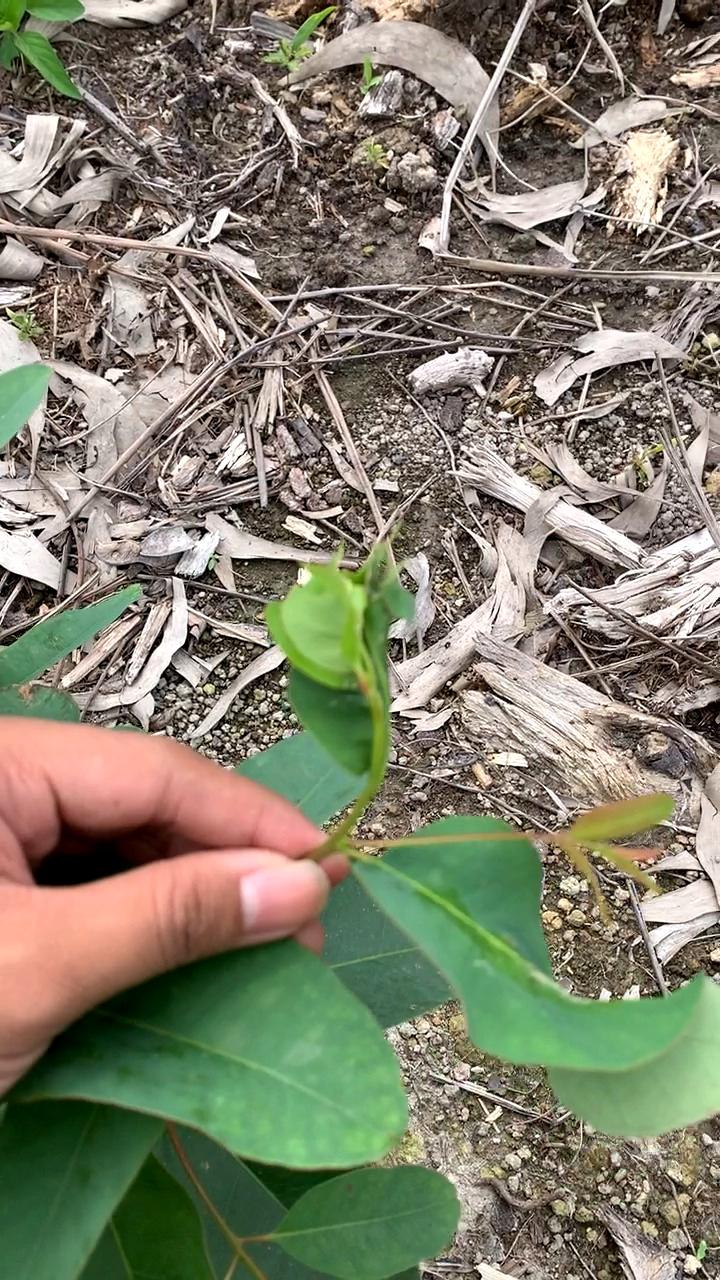Leaf Roller - Leaf: (278, 553, 427, 789)
